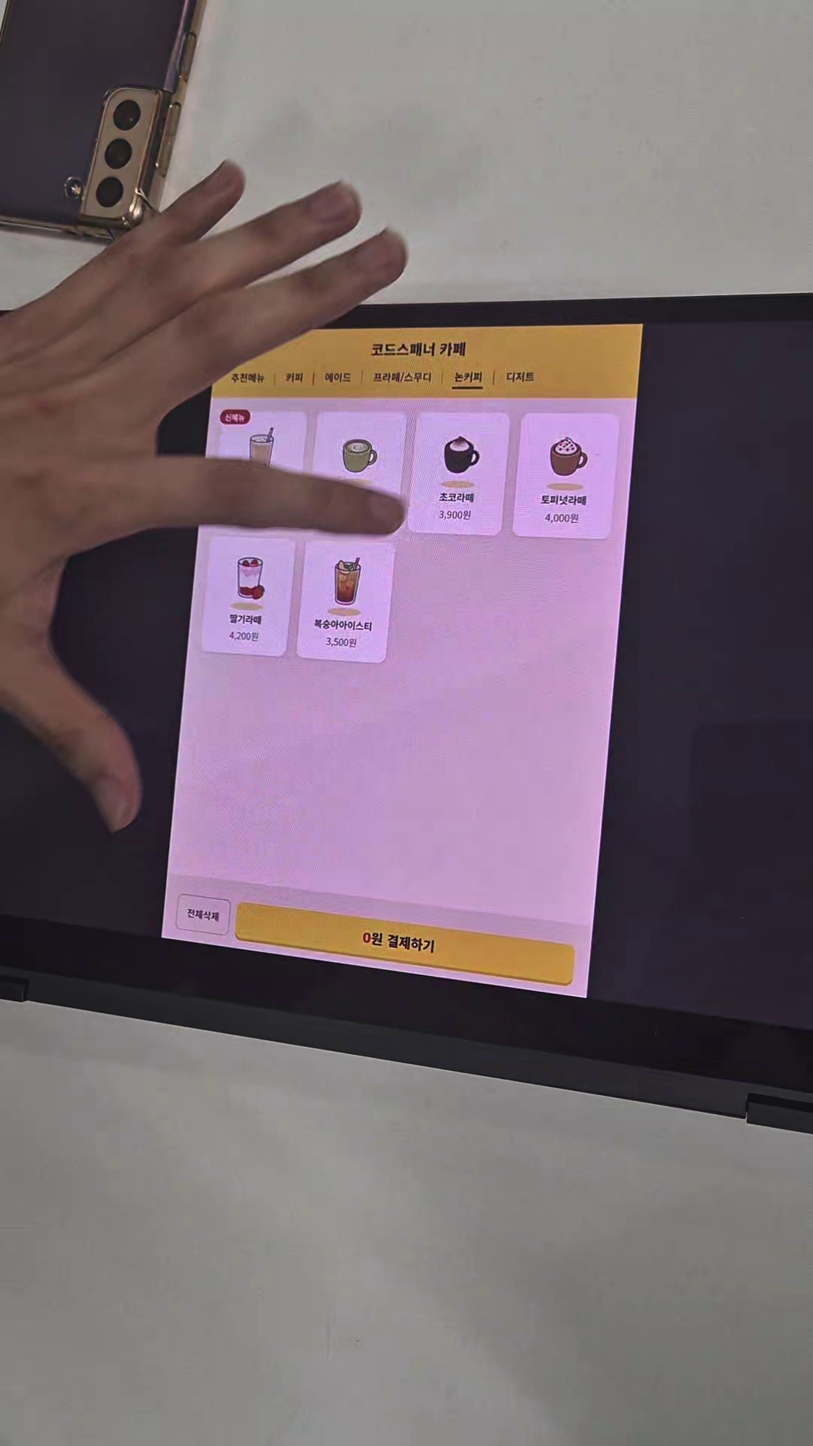action_button: (235, 901, 578, 987), (173, 892, 232, 936)
category_tab: (373, 371, 432, 384), (501, 371, 538, 384), (229, 373, 266, 385), (318, 372, 355, 384), (453, 372, 483, 383), (284, 372, 304, 385)
menu_back: (513, 413, 618, 539), (407, 412, 510, 535), (297, 538, 395, 663), (308, 411, 407, 532), (199, 534, 294, 656), (212, 409, 308, 527)
menu_name: (313, 618, 373, 633), (540, 495, 587, 507), (226, 613, 265, 626), (437, 492, 476, 504)
menu_price: (545, 511, 580, 525), (324, 636, 359, 650), (226, 629, 261, 643), (437, 509, 471, 523)
